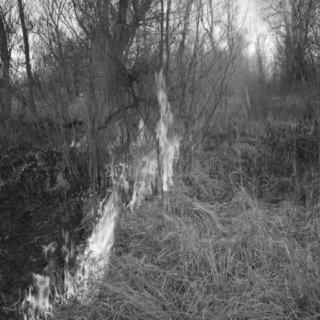Fire: (63, 129, 126, 305), (126, 64, 188, 211), (15, 233, 64, 319)
